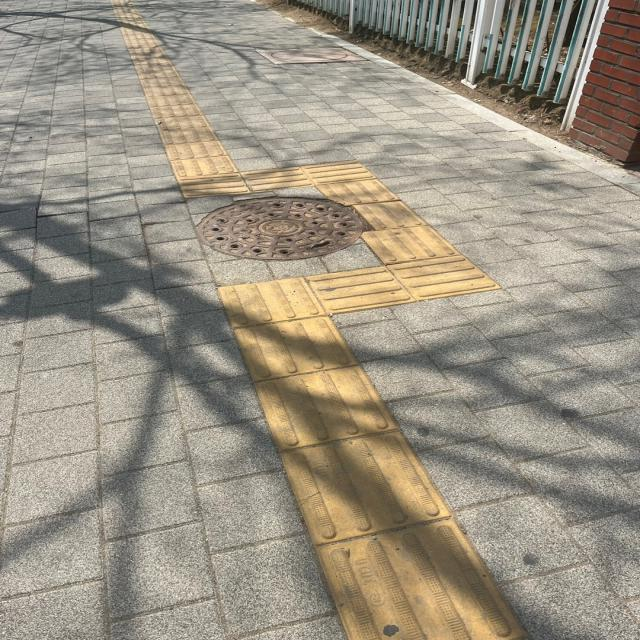Sewer Cover: (160, 184, 390, 282)
